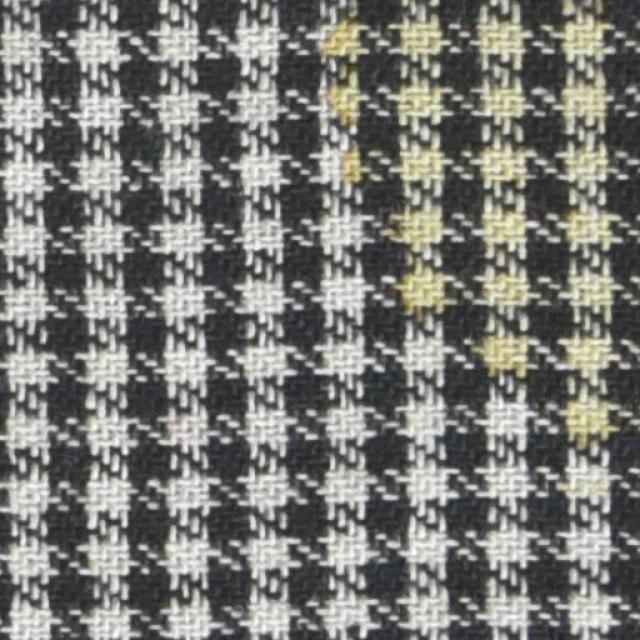Stain: (282, 1, 639, 459)
